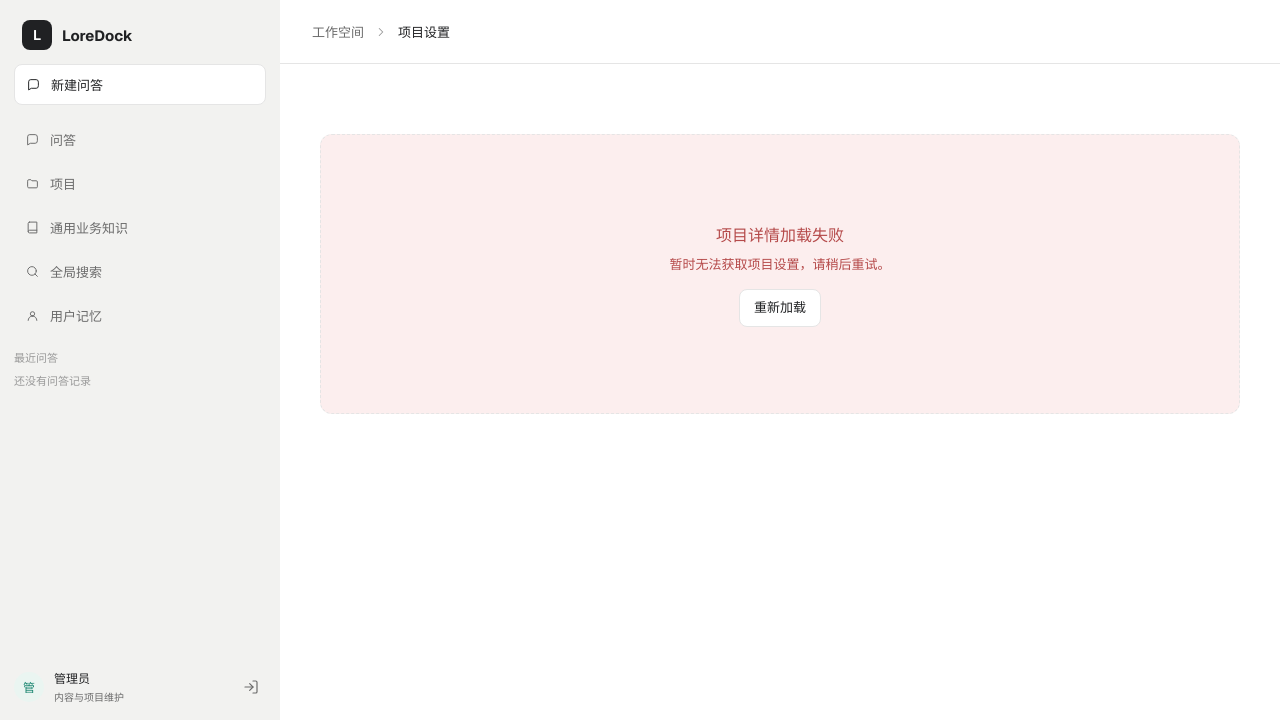
ProjectSettingsView › recovers from a safe retry state after a detail failure
Expected: the message "项目详情加载失败 暂时无法获取项目设置，请稍后重试。 重新加载" is shown, x1=320 y1=134 x2=1240 y2=414
Click the button with test id "retry-project-detail": (780, 308) x1=739 y1=288 x2=821 y2=326
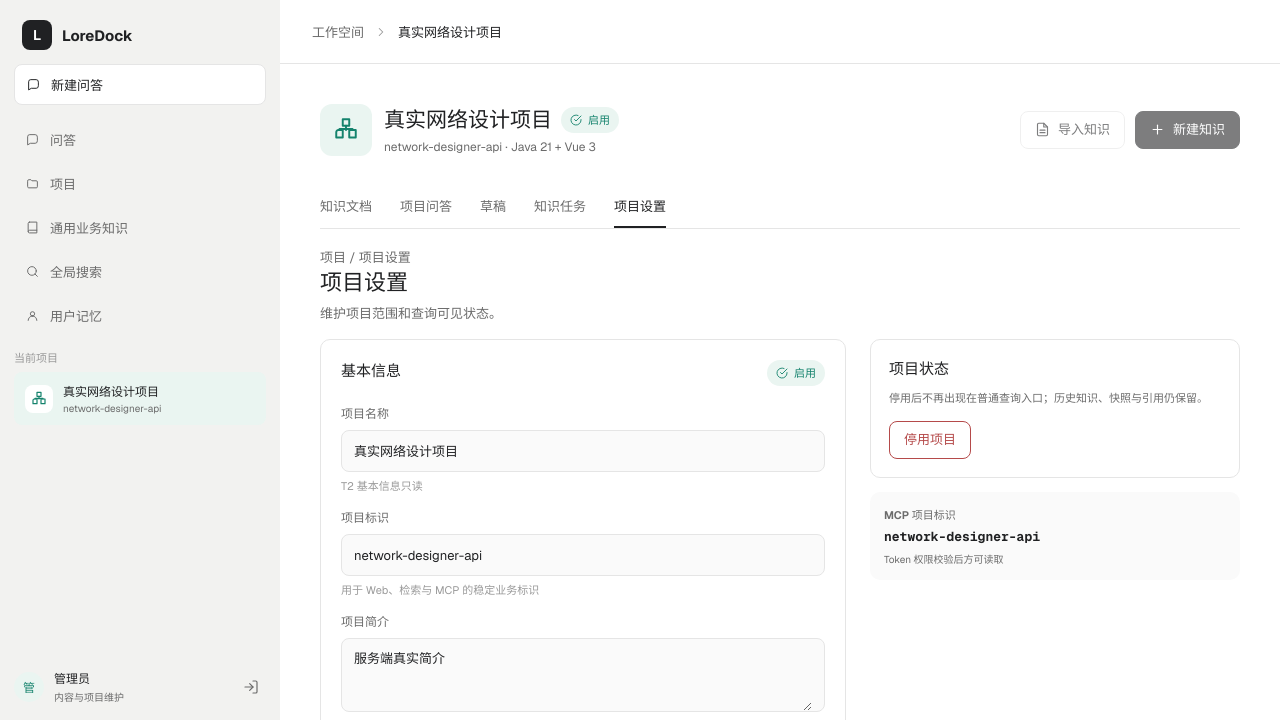
Expected: the text "真实网络设计项目" is shown, x1=63 y1=382 x2=162 y2=400
